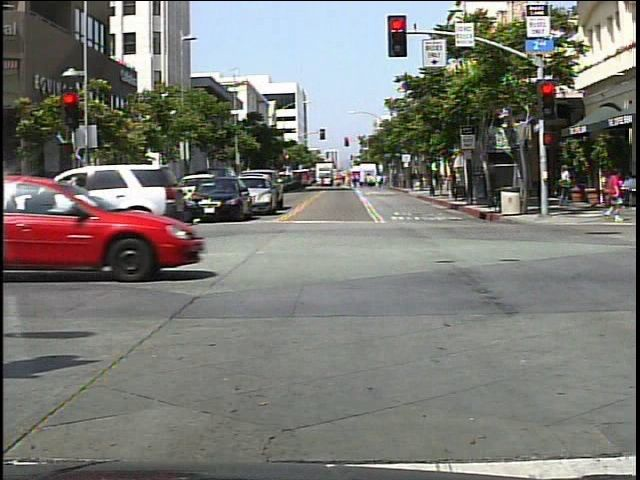person: (68, 171, 99, 235), (602, 167, 631, 228), (555, 162, 578, 213)
